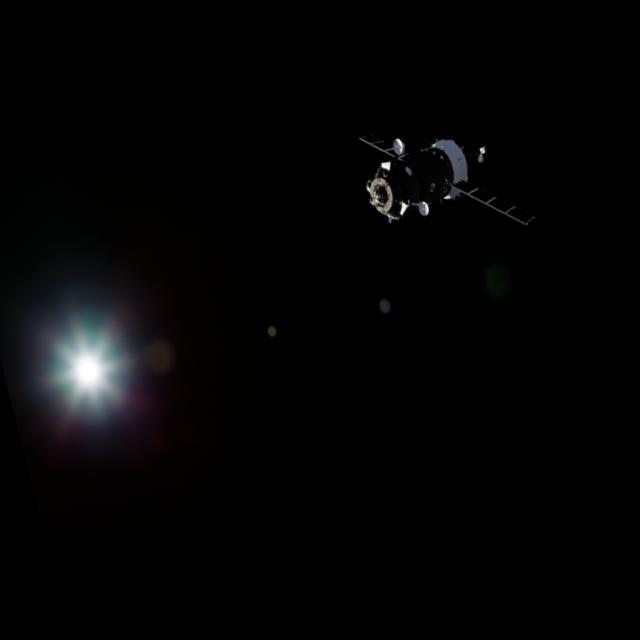Satellites revolving around earth: (350, 95, 540, 266)
